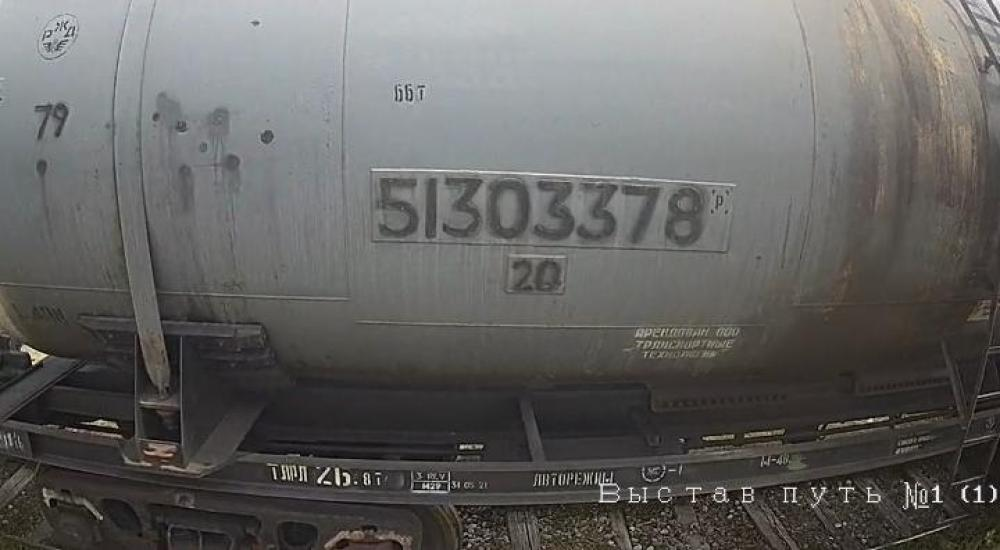Wagon-number: (368, 169, 710, 250)
